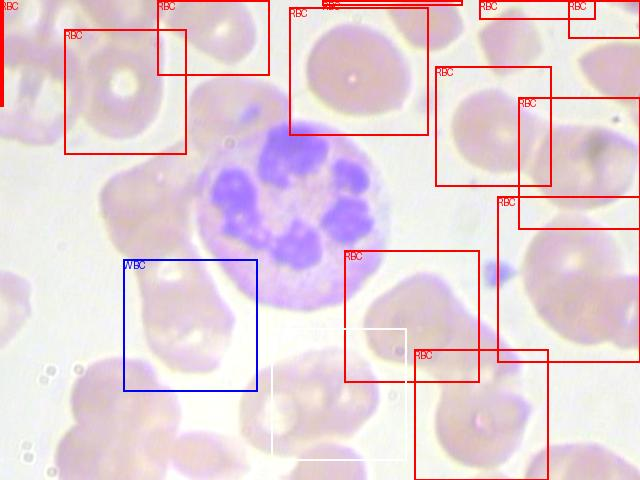Platelets: (271, 328, 406, 460)
RBC: (497, 196, 640, 362), (344, 250, 479, 382), (289, 7, 428, 135), (414, 349, 548, 480), (518, 97, 640, 229), (64, 29, 186, 154), (435, 66, 551, 186), (157, 0, 269, 75), (568, 0, 640, 38), (479, 0, 595, 19), (322, 0, 462, 5), (0, 0, 3, 106)
WBC: (123, 259, 257, 391)
